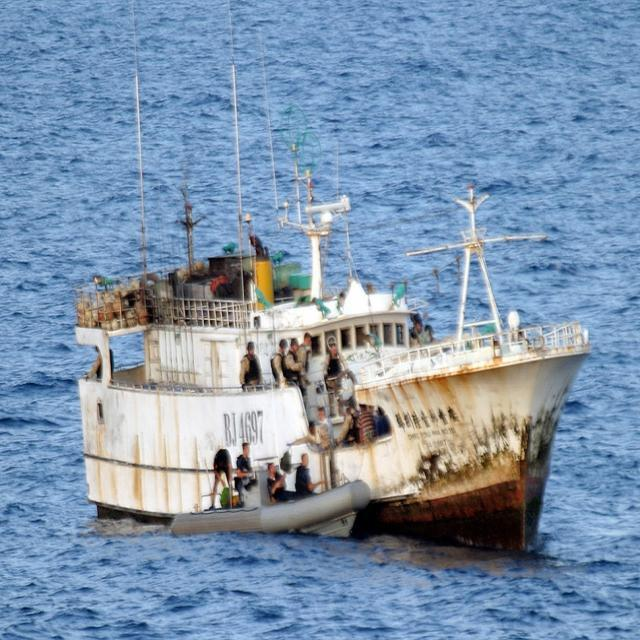Ship: (66, 180, 599, 568)
